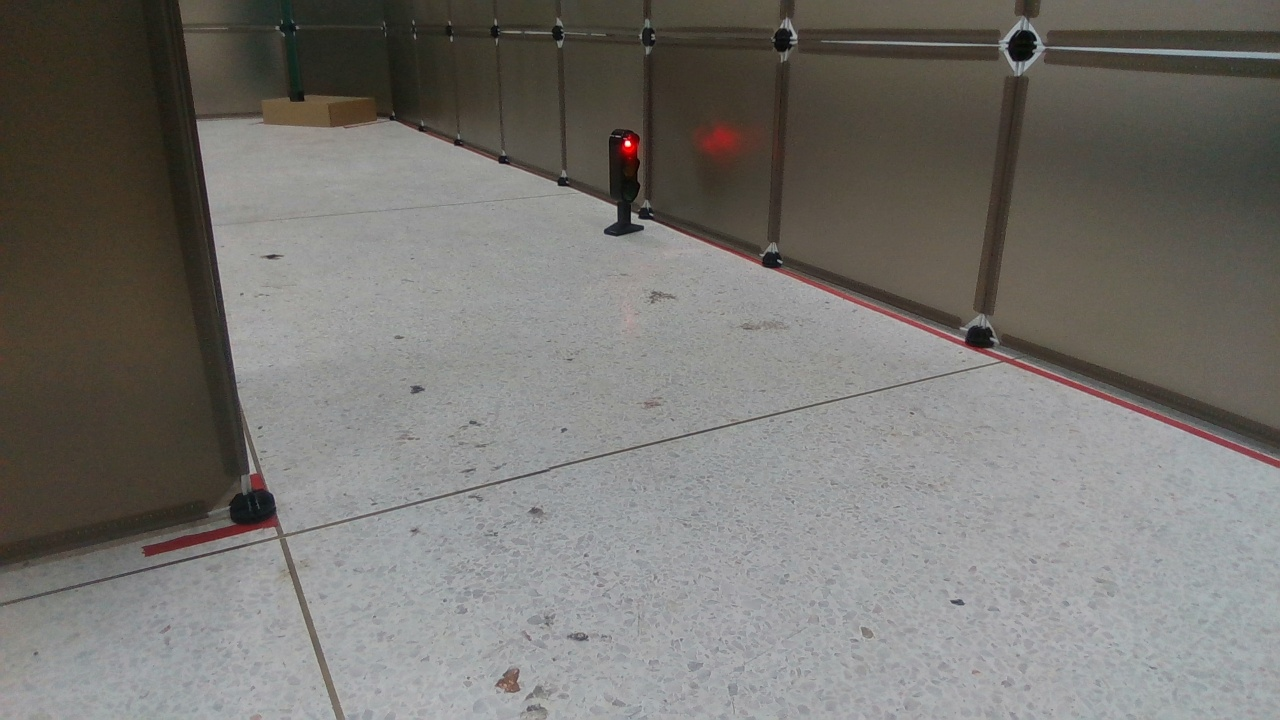Red traffic light: (601, 128, 647, 237)
